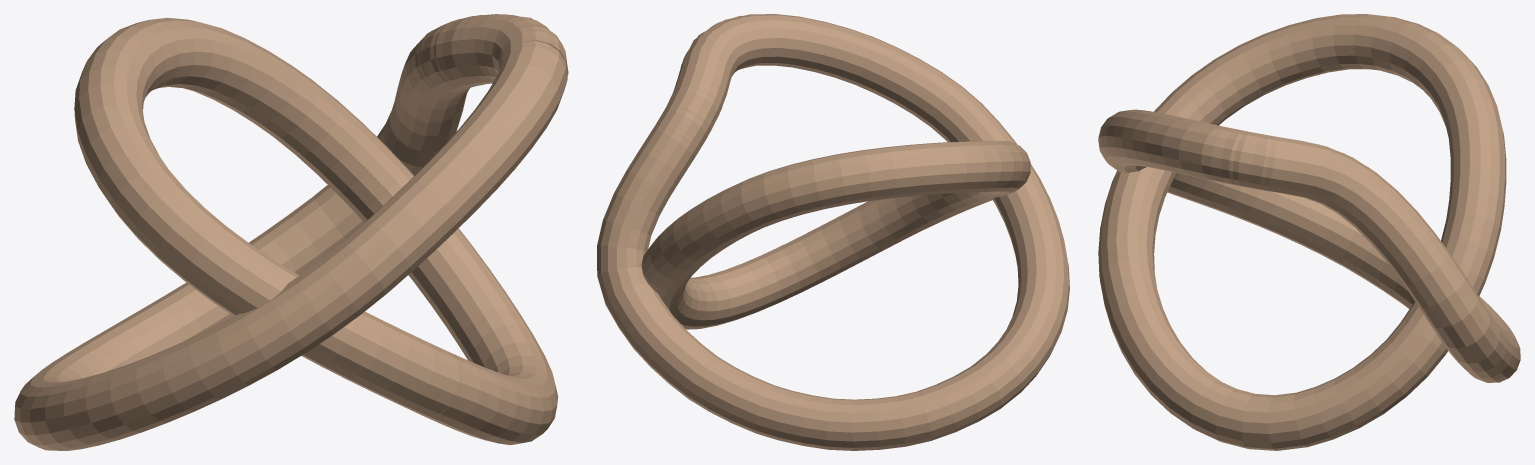
Rendered from jaula_cuerda.fbx.
The picture shows the model from 3 angles, left to right: view 1: azimuth 30°, elevation 25°; view 2: azimuth 150°, elevation 25°; view 3: azimuth 270°, elevation 25°; orthographic projection. The views are drawn at different scales.
Visible parts, largest first — view 1: Cylinder; view 2: Cylinder; view 3: Cylinder.
Part boxes in pixels (x1,y1,x2,y2): Cylinder: (14,14,568,450); Cylinder: (597,14,1069,450); Cylinder: (1098,14,1520,450).
Size of the model in its own units: 83.85 by 63.83 by 75.72.
